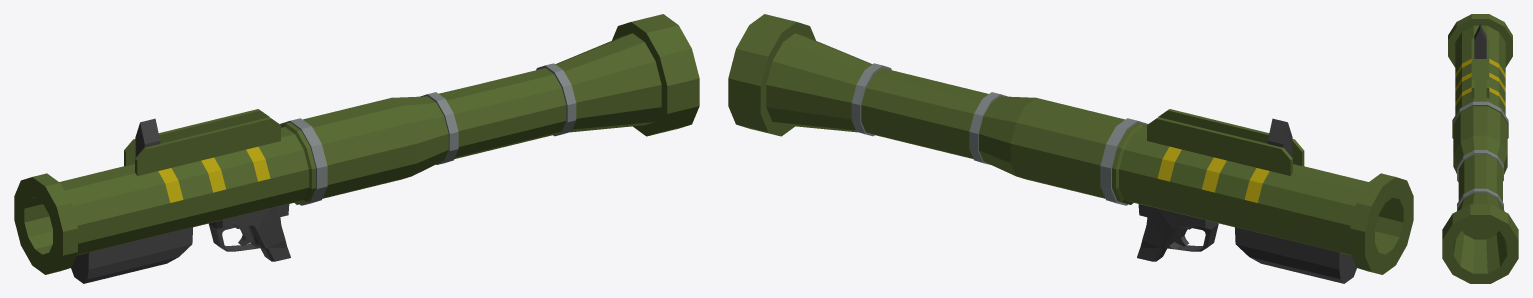
Rendered from Bazooka.fbx.
3 renders of one model, left to right at view 1: azimuth 30°, elevation 25°; view 2: azimuth 150°, elevation 25°; view 3: azimuth 270°, elevation 25°, orthographic. The views are drawn at different scales.
Visible parts, largest first — view 1: Mesh; view 2: Mesh; view 3: Mesh.
Boxes of the visible parts, x1,y1,x2,y2 form: Mesh: (14, 14, 699, 283); Mesh: (728, 14, 1413, 283); Mesh: (1442, 14, 1518, 283).
Bounding box in the file's own units: 250 × 63.6 × 39.07.
